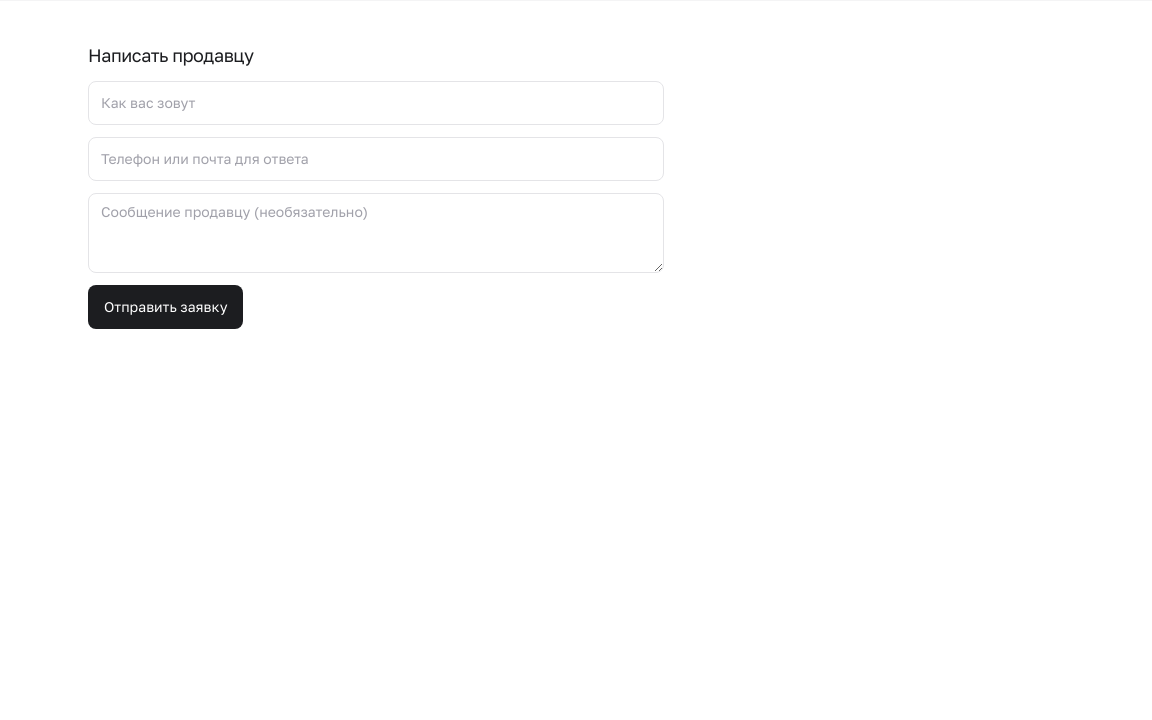
Test case: ContactAction › registration_required раскрывает поля, ничего не очищая
Type "Иван" into the field named "Имя" at point(376, 103), box [88, 81, 664, 125]
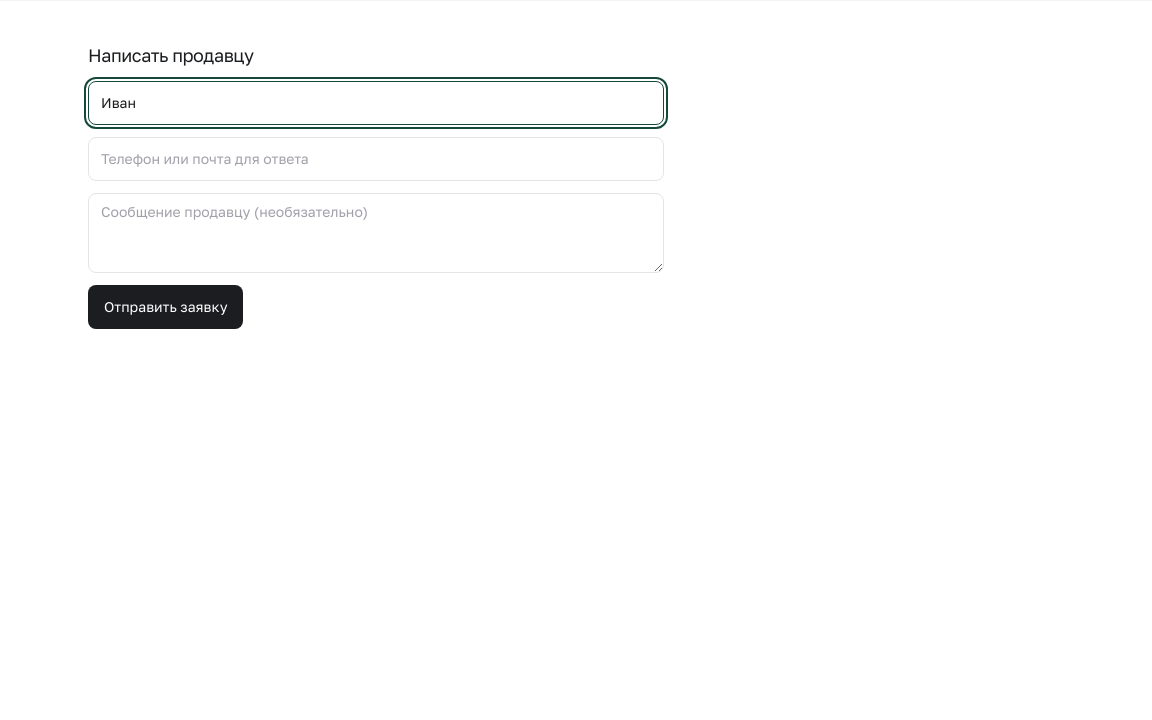
Type "+7 999 000-00-00" into the field named "Контакт" at point(376, 159), box [88, 137, 664, 181]
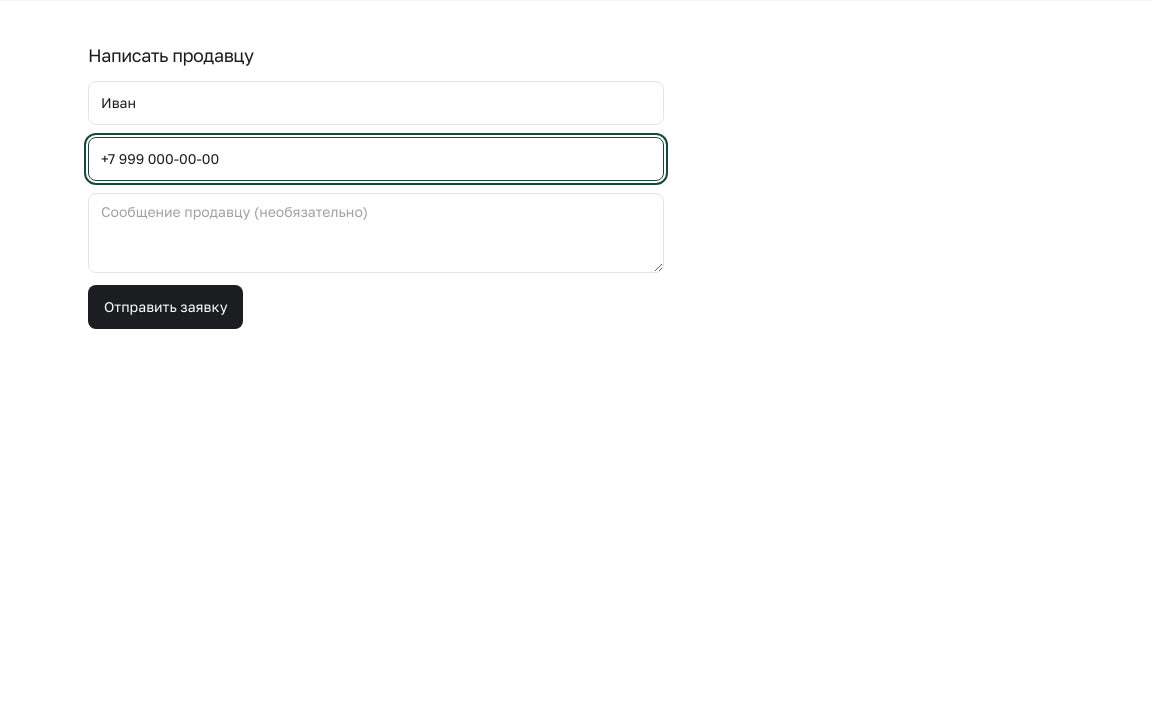
Click the button "Отправить заявку" at point(166, 307), box [88, 285, 244, 329]
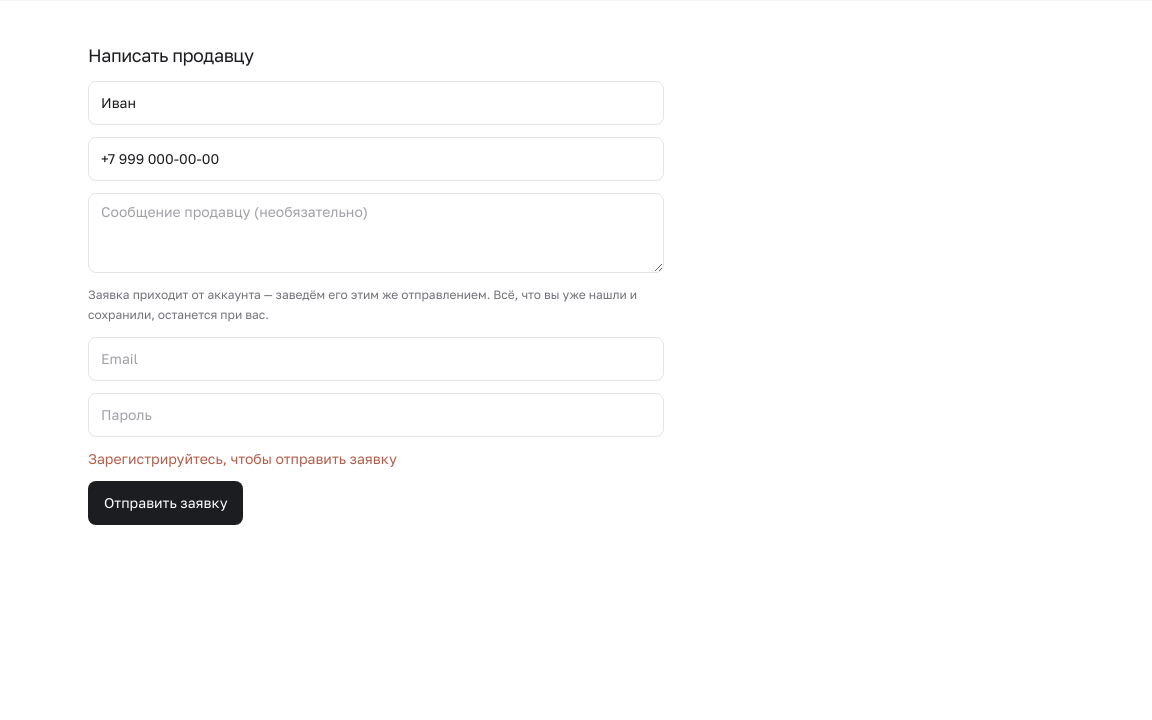
Check: the field labelled "Email" is shown, box [88, 337, 664, 381]
